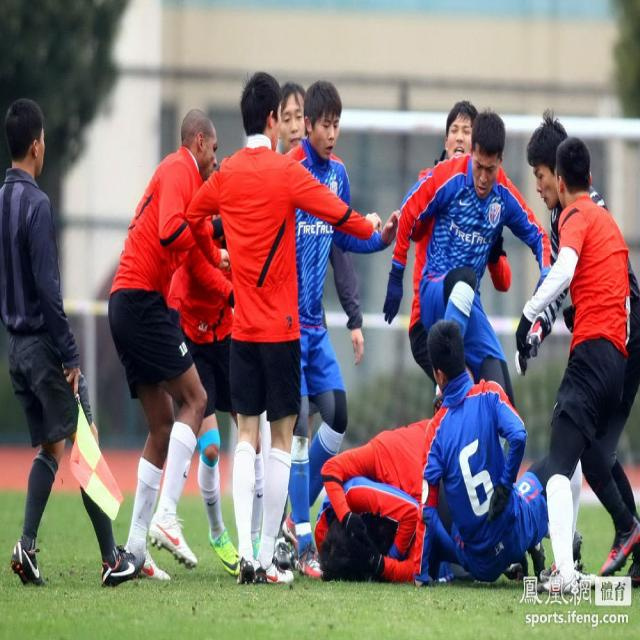10-: (0, 63, 639, 600)
down: (304, 399, 483, 592)
